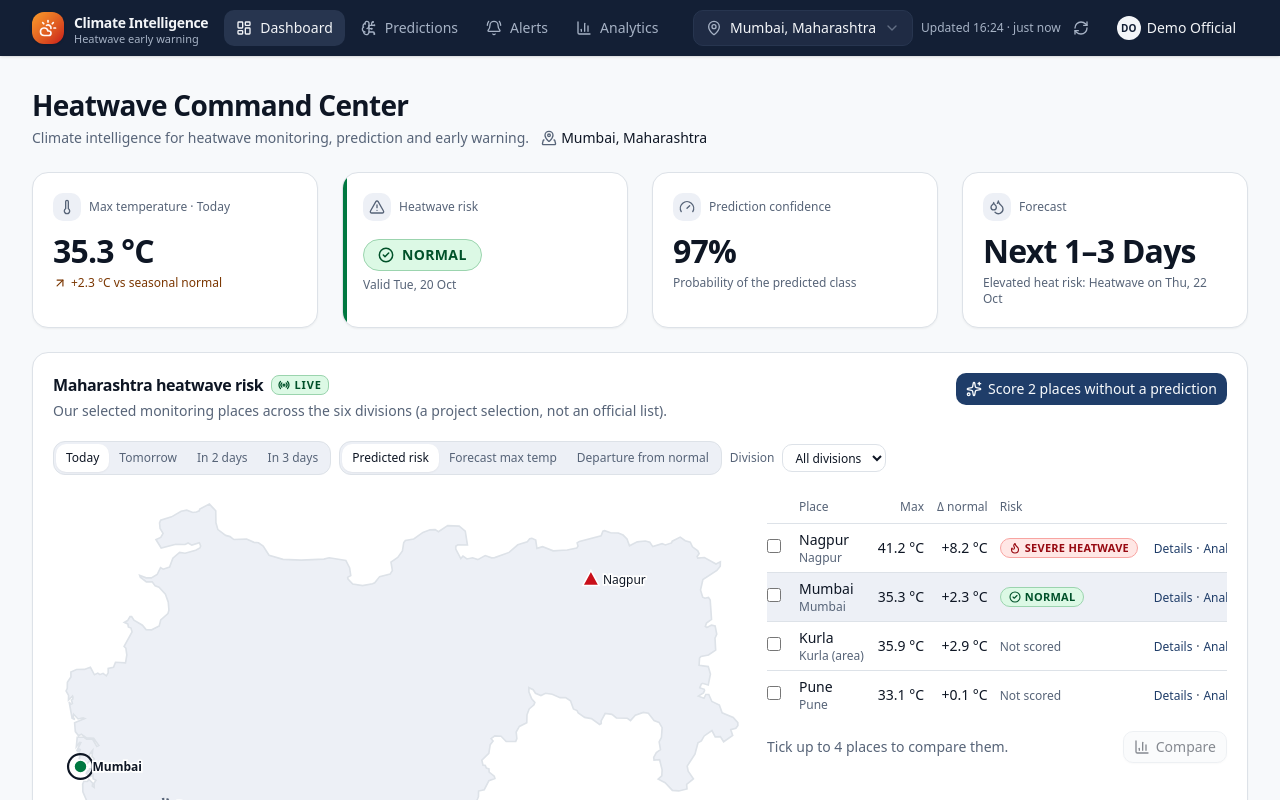
Test: Heatwave Command Center › switches the forecast day and asks the API for that lead
The width and height of the screenshot is (1280, 800).
Click the button "In 3 days" at (293, 458), box x1=258 y1=444 x2=328 y2=472
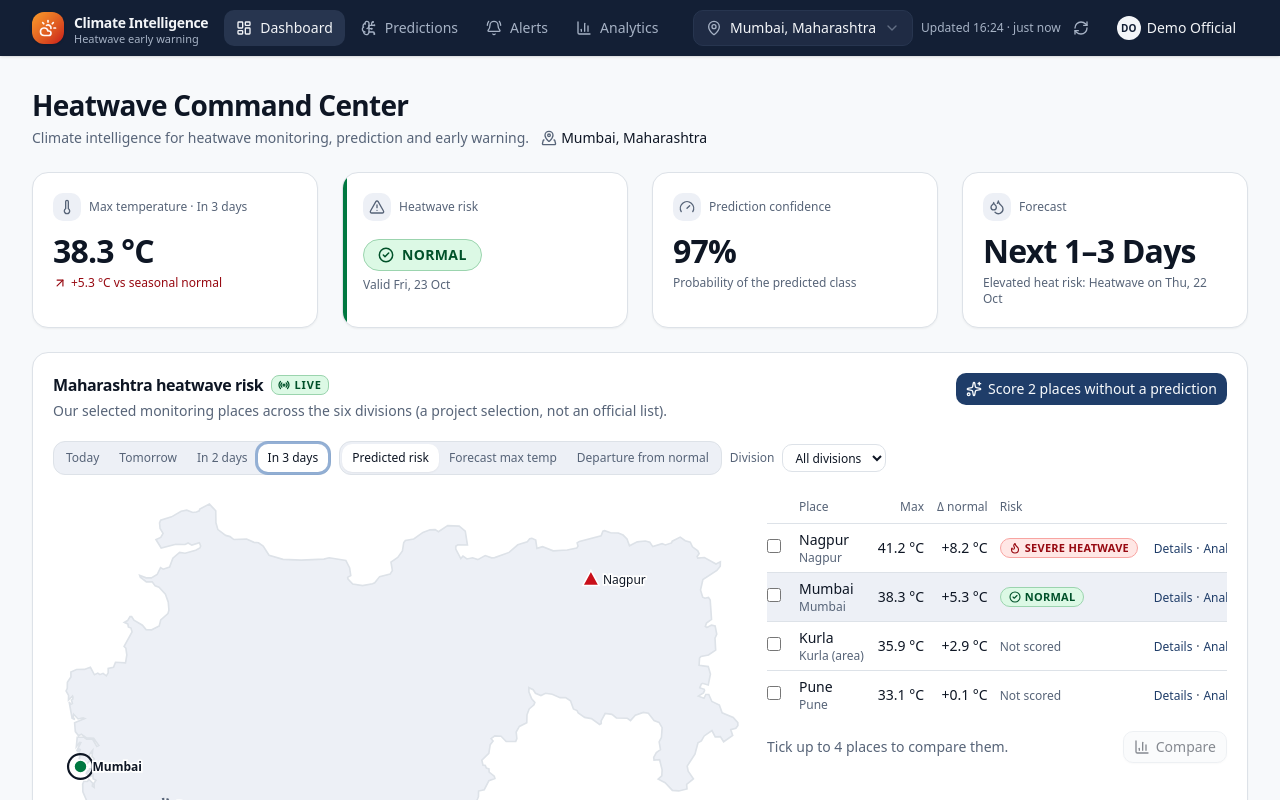
Check: the element "Max temperature · In 3 days" shows "38.3 °C", box x1=53 y1=229 x2=154 y2=272
